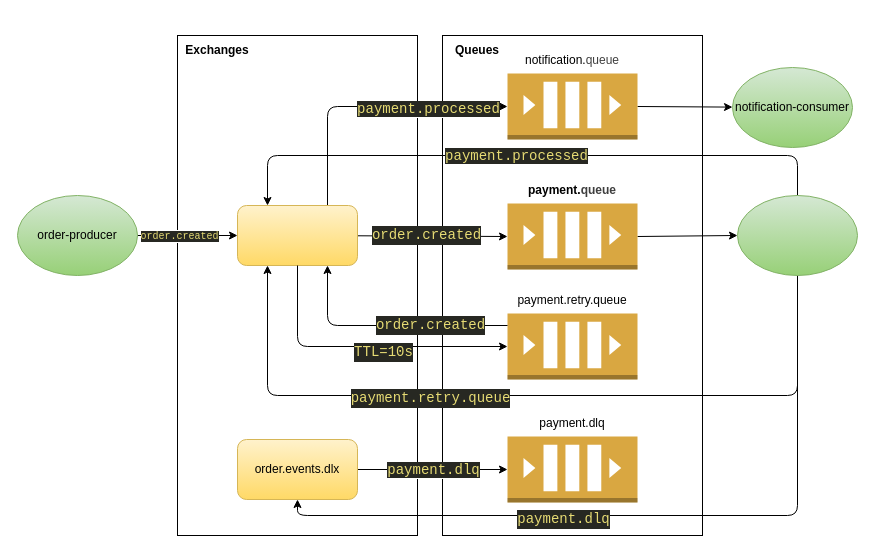
This 875x553 diagram has some shape labels left out. The shapes that lost their labels are listed below. From the top down, each one's centre as x and y in pixels, then its label:
the point at 297,235: order.events
the point at 797,235: payment-consumer
